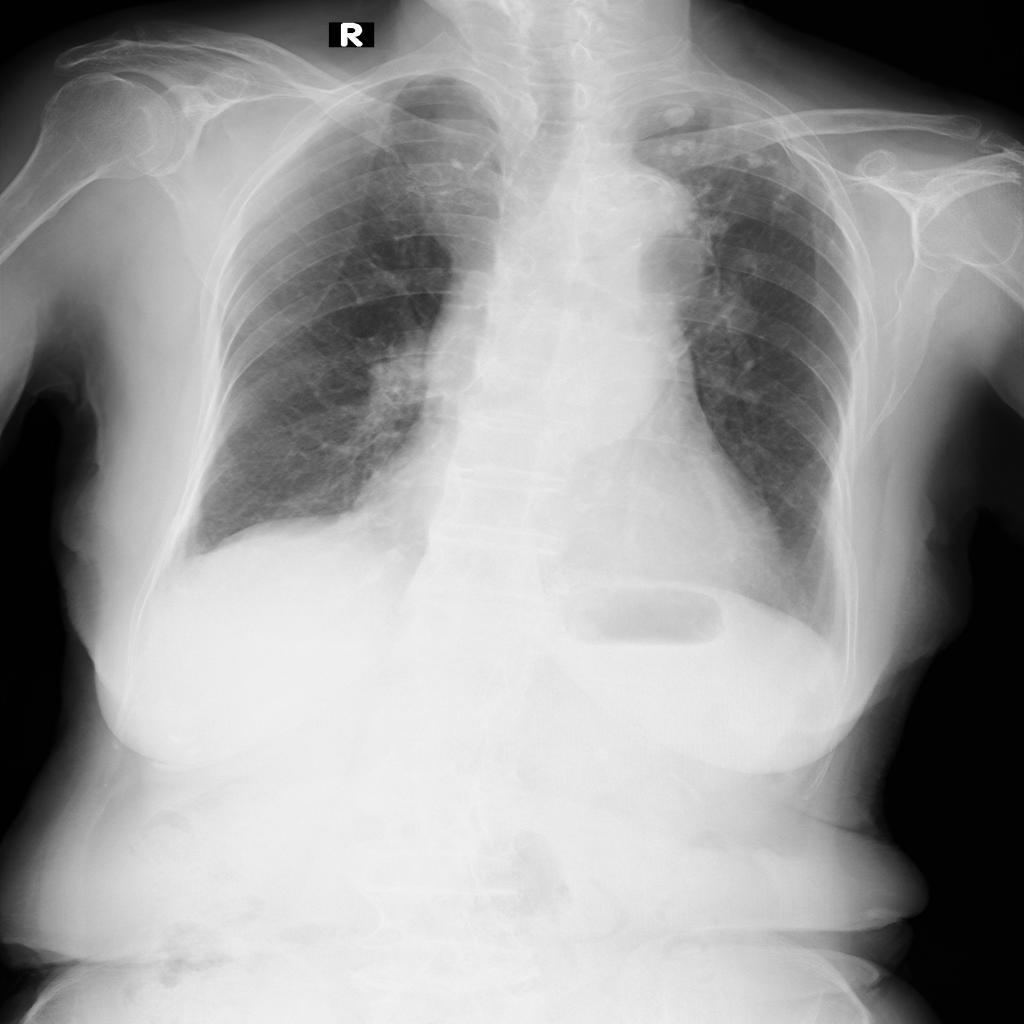Nodule: (666, 96, 697, 128), (660, 136, 703, 159), (745, 152, 779, 170), (771, 195, 795, 216)
